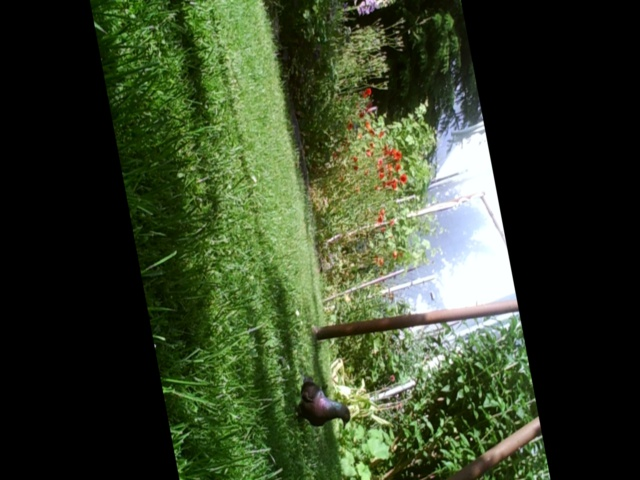Pigeon: (287, 371, 356, 433)
